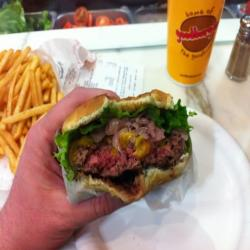burger: (48, 80, 200, 210)
fries: (1, 41, 65, 177)
